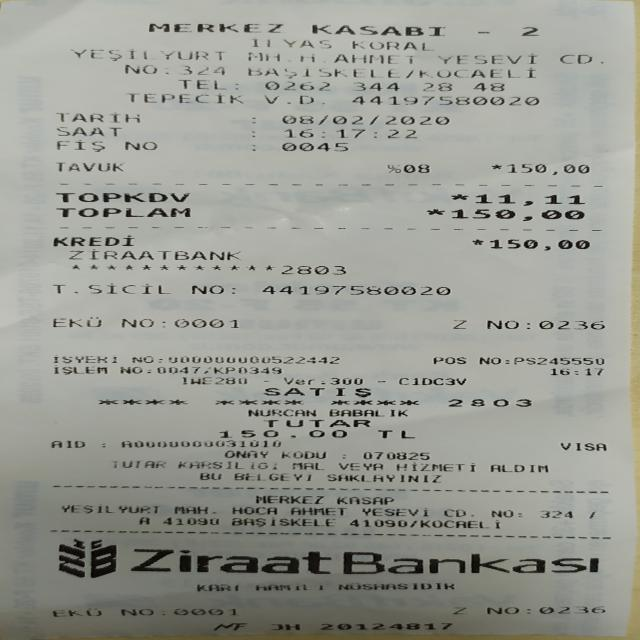text: (128, 548, 603, 574), (247, 66, 536, 78), (69, 48, 222, 62), (350, 95, 538, 106), (246, 52, 412, 64), (67, 249, 239, 260), (425, 209, 582, 221), (261, 285, 449, 295), (280, 115, 450, 125), (451, 194, 584, 206), (148, 22, 281, 33), (311, 25, 444, 36), (69, 264, 275, 271), (125, 93, 245, 105), (281, 129, 418, 139), (168, 356, 339, 364), (52, 283, 171, 294), (471, 239, 589, 250), (120, 366, 281, 374), (484, 320, 606, 330), (484, 605, 606, 615), (55, 193, 189, 202), (55, 208, 189, 217), (436, 52, 535, 64), (121, 318, 238, 328), (218, 429, 346, 438), (121, 440, 281, 447), (349, 520, 488, 528), (490, 164, 588, 175), (336, 582, 455, 591), (246, 37, 332, 49), (231, 517, 334, 527), (124, 65, 224, 75), (53, 112, 141, 123), (263, 388, 369, 397), (120, 608, 236, 616), (320, 623, 451, 630), (351, 40, 434, 51), (326, 474, 440, 482), (52, 235, 132, 246), (479, 357, 604, 364), (262, 419, 370, 427), (396, 462, 475, 472), (279, 265, 347, 275), (53, 140, 105, 152), (283, 377, 361, 385), (254, 495, 323, 504), (234, 473, 311, 481), (54, 127, 120, 136), (447, 399, 531, 406), (52, 355, 116, 364), (179, 376, 249, 384), (255, 583, 324, 591), (177, 80, 238, 89), (263, 95, 324, 104), (279, 143, 347, 151), (55, 163, 123, 171), (397, 378, 465, 386), (362, 452, 430, 460), (177, 461, 244, 469), (361, 508, 428, 516), (53, 365, 106, 375), (49, 608, 102, 618), (52, 316, 100, 327), (264, 82, 329, 90), (60, 504, 116, 513), (488, 464, 548, 472), (247, 409, 315, 416), (336, 496, 393, 504), (290, 507, 346, 515), (162, 517, 218, 525), (98, 399, 186, 404), (330, 400, 417, 405), (191, 285, 238, 294), (230, 506, 277, 515), (353, 82, 398, 91), (559, 54, 603, 63), (118, 505, 162, 514), (329, 409, 383, 416), (111, 461, 165, 468), (550, 368, 603, 375), (387, 164, 428, 173), (560, 442, 606, 450), (281, 451, 325, 459), (215, 400, 302, 404), (224, 450, 267, 458), (173, 506, 216, 514), (429, 356, 466, 365), (336, 463, 383, 470), (122, 141, 158, 150), (376, 430, 414, 438), (196, 584, 237, 591), (49, 440, 84, 448), (290, 462, 323, 470), (422, 82, 450, 91), (473, 83, 504, 91), (443, 509, 473, 517), (213, 623, 246, 630), (490, 510, 522, 517), (540, 511, 572, 518), (131, 356, 162, 363), (250, 462, 277, 469), (450, 319, 468, 329), (199, 472, 221, 480), (521, 26, 538, 36), (271, 624, 299, 630), (389, 409, 407, 416), (452, 607, 466, 614), (246, 116, 258, 124), (476, 30, 492, 35), (248, 144, 258, 152), (138, 517, 148, 524), (249, 130, 257, 137), (338, 454, 348, 459), (99, 442, 107, 448), (589, 512, 594, 518), (495, 522, 499, 528)
